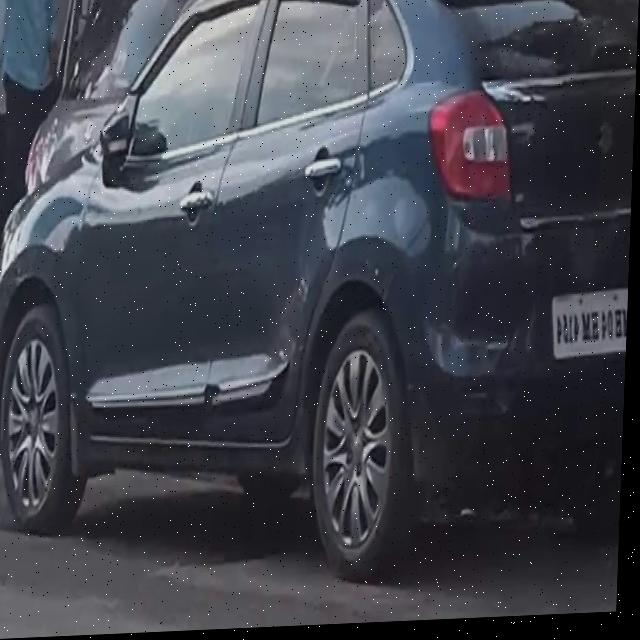plate: (552, 287, 631, 373)
